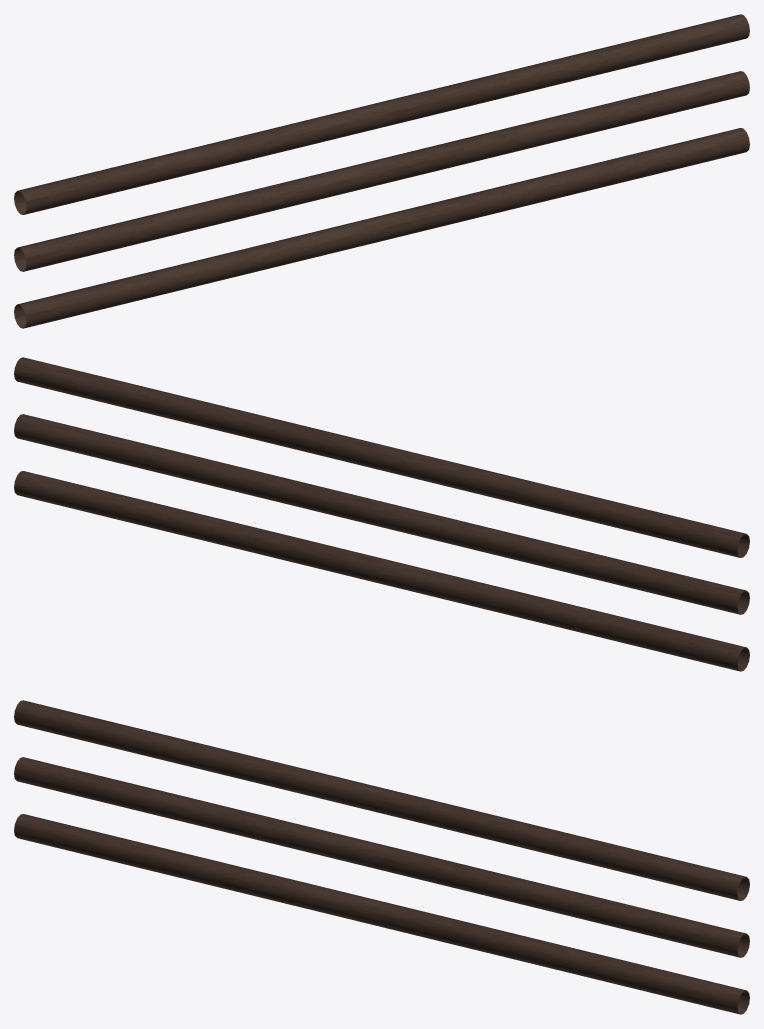
File: Guardrail_3_brown_bar.fbx
The picture shows the model from 3 angles, top to bottom: view 1: azimuth 30°, elevation 25°; view 2: azimuth 150°, elevation 25°; view 3: azimuth 330°, elevation 25°; orthographic projection.
Parts seen in each view (by area): view 1: 21_bar_3; view 2: 21_bar_3; view 3: 21_bar_3.
Boxes of the visible parts, x1,y1,x2,y2 form: 21_bar_3: [14, 14, 749, 328]; 21_bar_3: [14, 357, 749, 671]; 21_bar_3: [14, 700, 749, 1014].
Size of the model in its own units: 2 by 0.36 by 0.06.
